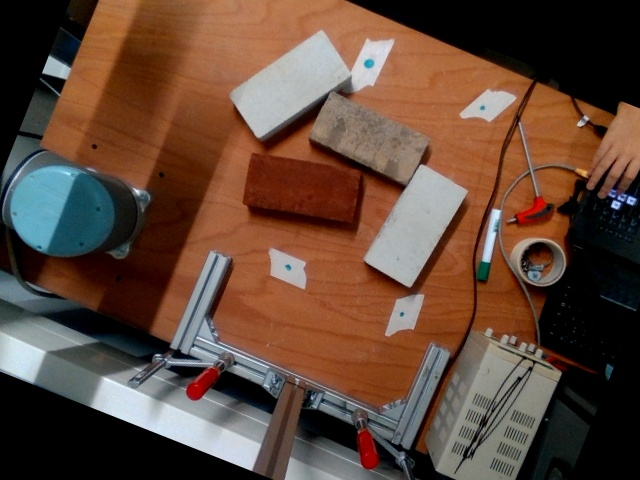brick: (367, 167, 465, 284), (234, 34, 347, 133), (313, 95, 425, 179), (245, 154, 358, 217)
